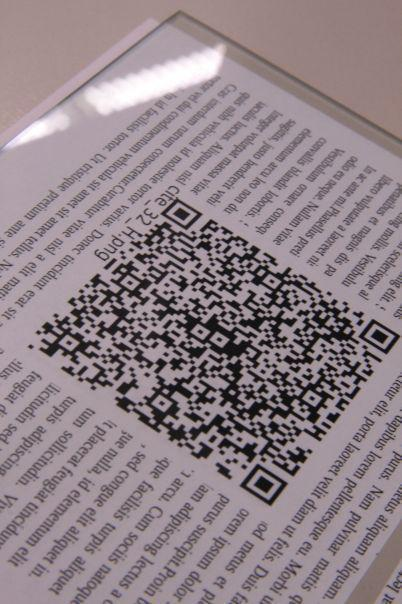qr_code: (27, 198, 401, 507)
